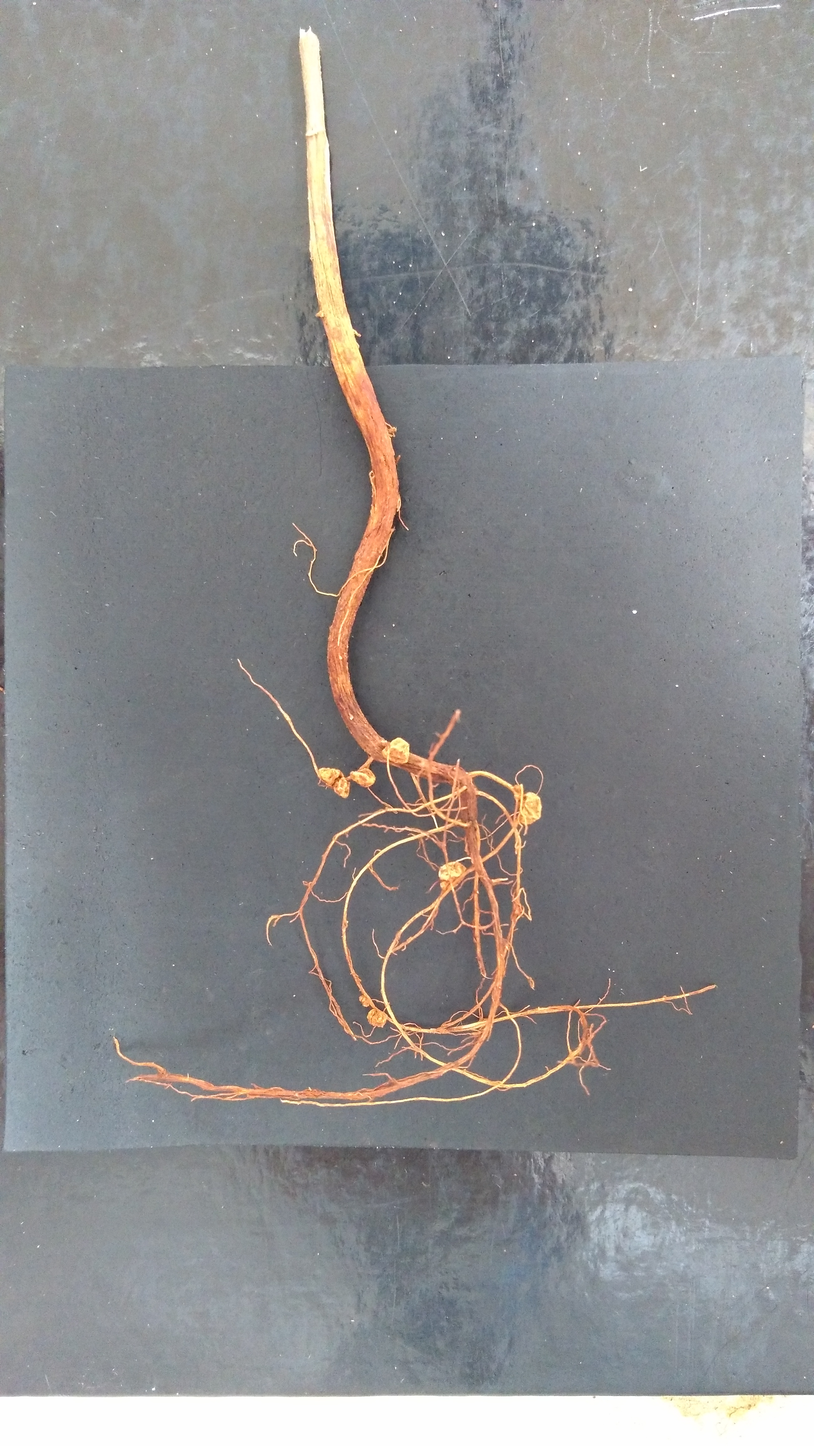nodule: (437, 860, 467, 891), (381, 737, 411, 765), (518, 790, 542, 825), (349, 766, 376, 788), (316, 766, 344, 787), (365, 1008, 387, 1029), (332, 776, 350, 799), (358, 994, 370, 1007)
